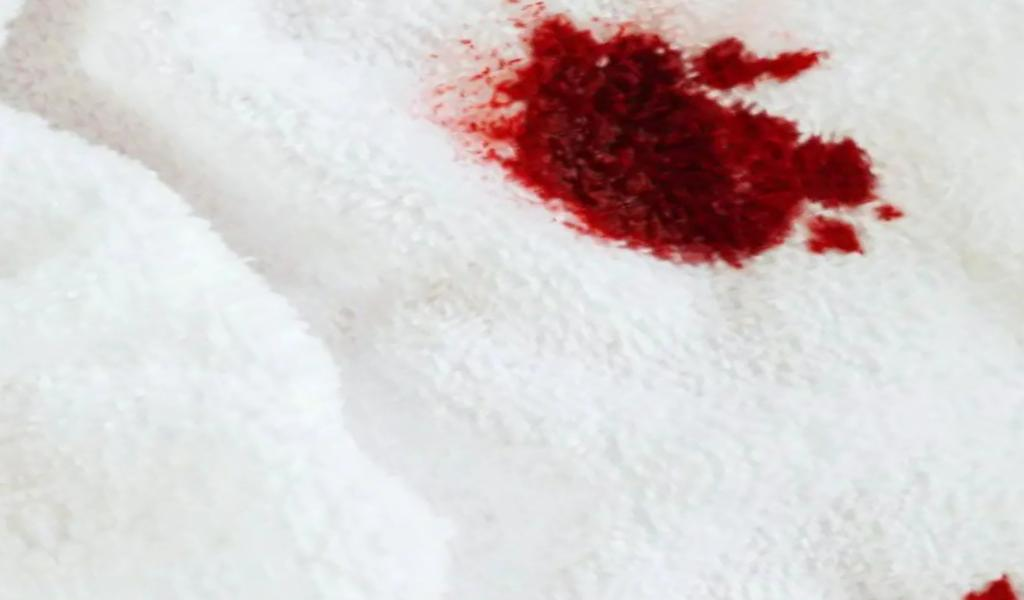stain: (434, 0, 906, 280), (947, 566, 1024, 600)
